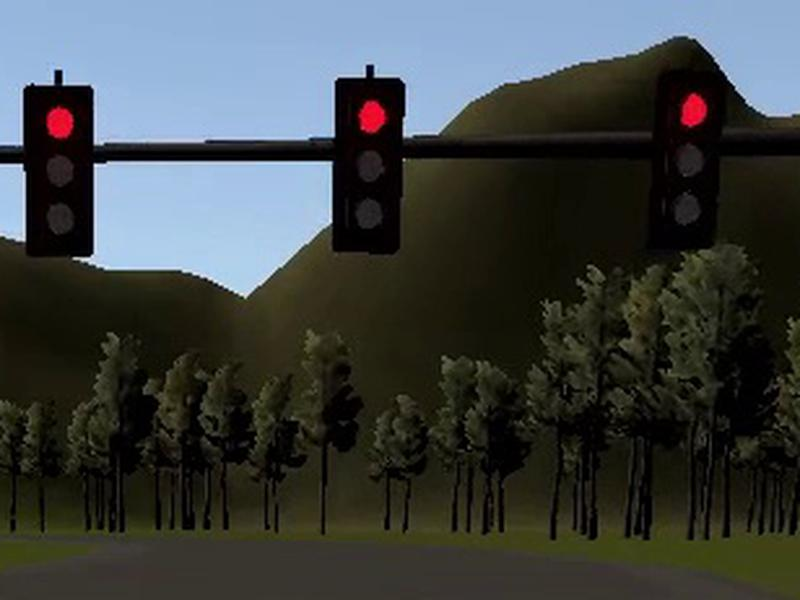Red: (648, 75, 725, 248), (333, 76, 406, 254), (22, 84, 93, 257)
